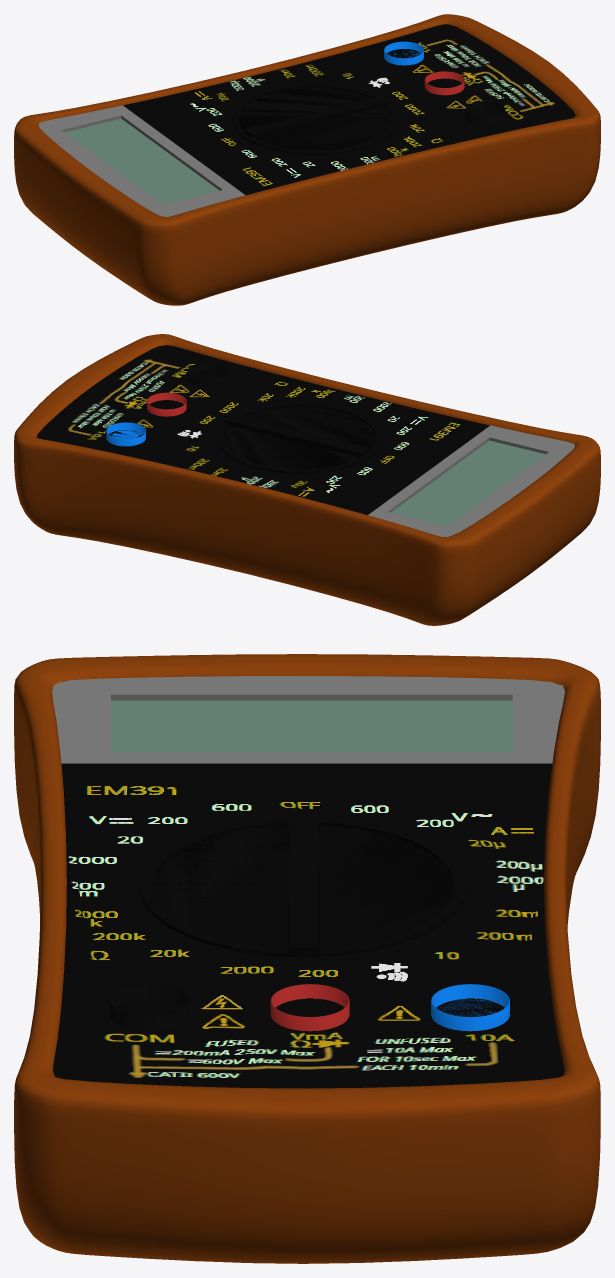
The model's file is Amperímetro.fbx.
The picture shows the model from 3 angles, top to bottom: view 1: azimuth 30°, elevation 25°; view 2: azimuth 150°, elevation 25°; view 3: azimuth 270°, elevation 25°; orthographic projection. The views are drawn at different scales.
Parts seen in each view (by area): view 1: Cube, Plane, Cube.001, Cube.002, Cylinder.001, Cylinder.003, Cylinder.002, Cylinder; view 2: Cube, Plane, Cube.001, Cube.002, Cylinder.001, Cylinder.003, Cylinder, Cylinder.002; view 3: Cube, Plane, Cube.001, Cube.002, Cylinder.001, Cylinder.003, Cylinder.002, Cylinder.
Part boxes in pixels (x1=…): Cube: x1=14, y1=14, x2=600, y2=305; Plane: x1=123, y1=24, x2=575, y2=195; Cube.001: x1=38, y1=105, x2=245, y2=216; Cube.002: x1=239, y1=49, x2=502, y2=150; Cylinder.001: x1=232, y1=83, x2=397, y2=154; Cylinder.003: x1=465, y1=101, x2=505, y2=124; Cylinder.002: x1=424, y1=71, x2=464, y2=95; Cylinder: x1=384, y1=41, x2=423, y2=65; Cube: x1=14, y1=334, x2=600, y2=625; Plane: x1=37, y1=345, x2=489, y2=514; Cube.001: x1=368, y1=425, x2=574, y2=536; Cube.002: x1=109, y1=370, x2=375, y2=469; Cylinder.001: x1=217, y1=402, x2=382, y2=473; Cylinder.003: x1=187, y1=363, x2=227, y2=386; Cylinder: x1=106, y1=422, x2=145, y2=446; Cylinder.002: x1=147, y1=392, x2=186, y2=416; Cube: x1=14, y1=654, x2=600, y2=1263; Plane: x1=52, y1=763, x2=564, y2=1088; Cube.001: x1=52, y1=676, x2=564, y2=763; Cube.002: x1=110, y1=825, x2=511, y2=1018; Cylinder.001: x1=140, y1=815, x2=466, y2=957; Cylinder.003: x1=110, y1=984, x2=189, y2=1031; Cylinder.002: x1=270, y1=984, x2=349, y2=1031; Cylinder: x1=431, y1=984, x2=509, y2=1031.
Size of the model in its own units: 138 by 27.25 by 74.6.
